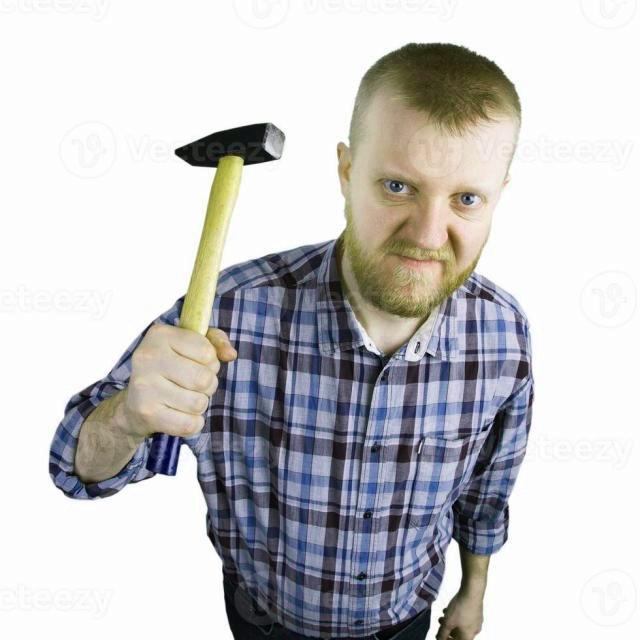hammer: (142, 114, 292, 482)
